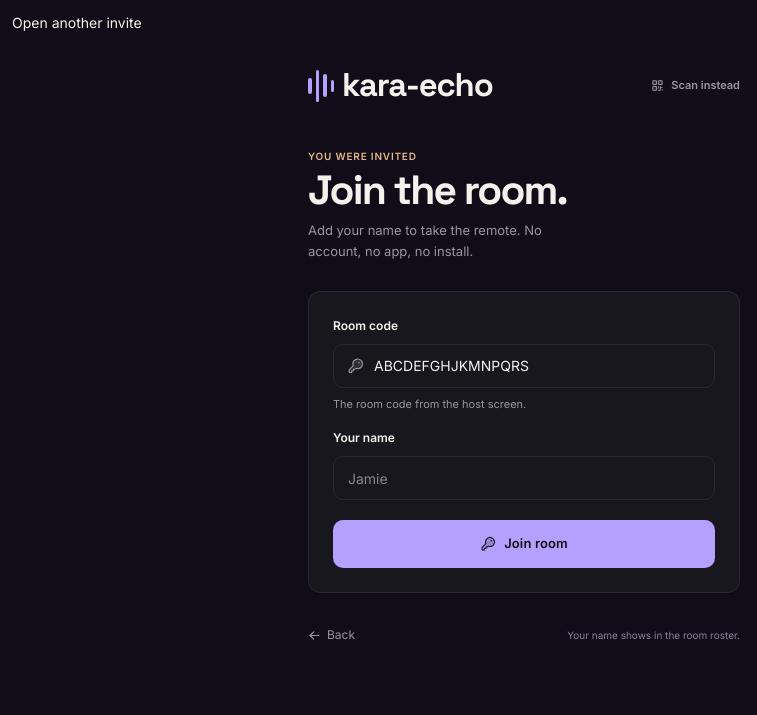
Test case: join screen › keeps the join form and reports a safe error for an incomplete successful HTTP response
The width and height of the screenshot is (757, 715).
Step 1. Click the button "Join room" → (524, 544), box [333,520,715,568]
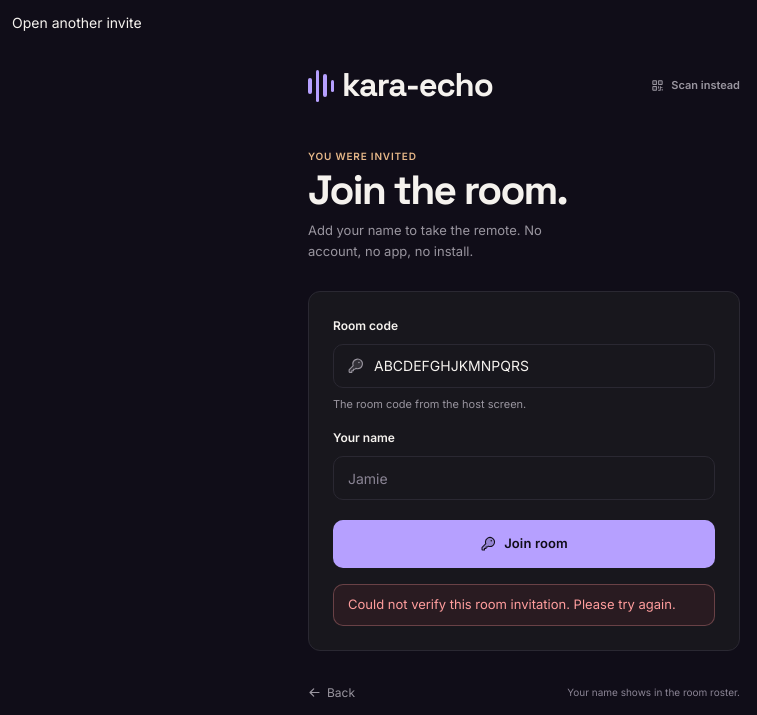
Check: the heading "Join the room." is shown, box [308,164,567,216]
Check: the message reads "Could not verify this room invitation. Please try again.", box [348,596,676,612]
